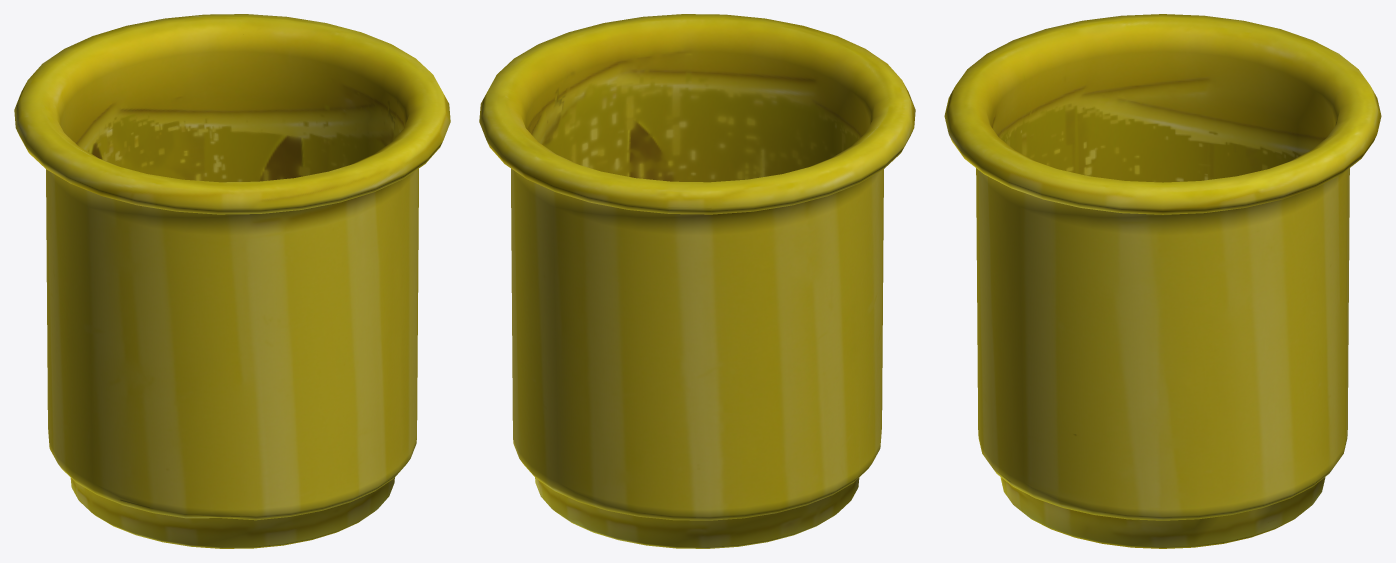
Rendered from 065-d_cups.dae.
The picture shows the model from 3 angles, left to right: view 1: azimuth 30°, elevation 25°; view 2: azimuth 150°, elevation 25°; view 3: azimuth 270°, elevation 25°; orthographic projection.
Visible parts, largest first — view 1: 065-d_cups; view 2: 065-d_cups; view 3: 065-d_cups.
Part boxes in pixels (<box>): 065-d_cups: <box>14,14,450,548</box>; 065-d_cups: <box>479,14,915,548</box>; 065-d_cups: <box>944,14,1381,548</box>.
Bounding box in the file's own units: 0.0712 × 0.0712 × 0.0685.
1 material, 1 textured.
